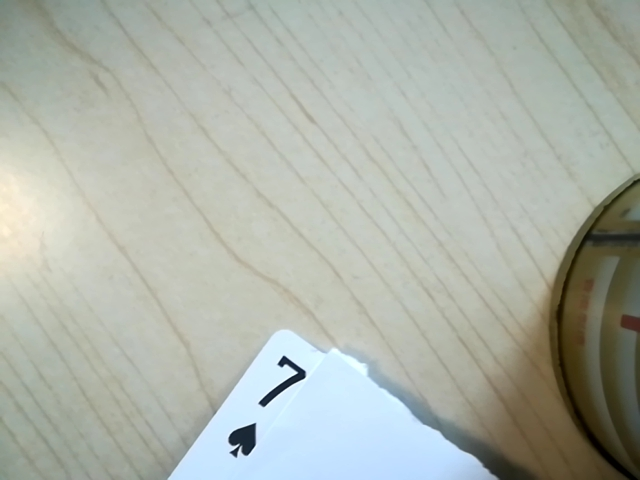ht 7: (210, 349, 311, 471)
